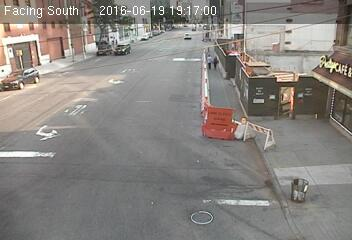neg: (29, 52, 48, 78), (91, 32, 108, 56), (76, 32, 90, 51), (57, 38, 71, 57)
pos: (210, 54, 223, 71), (202, 53, 214, 69)
